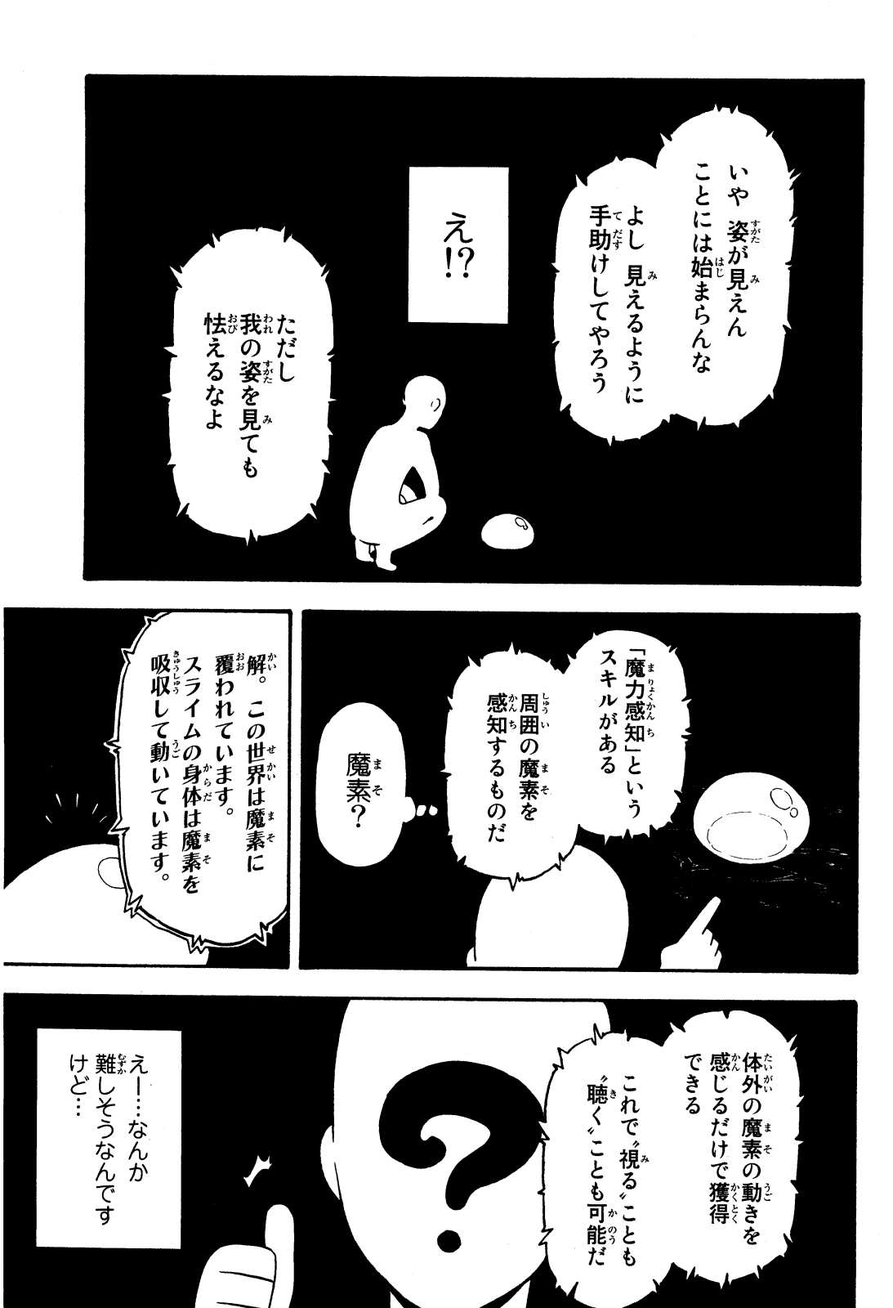bubbles: (544, 102, 802, 450), (533, 1009, 806, 1308), (436, 622, 694, 889), (100, 611, 289, 957), (155, 212, 337, 550), (27, 1019, 194, 1259), (313, 697, 442, 875), (401, 161, 514, 334)
